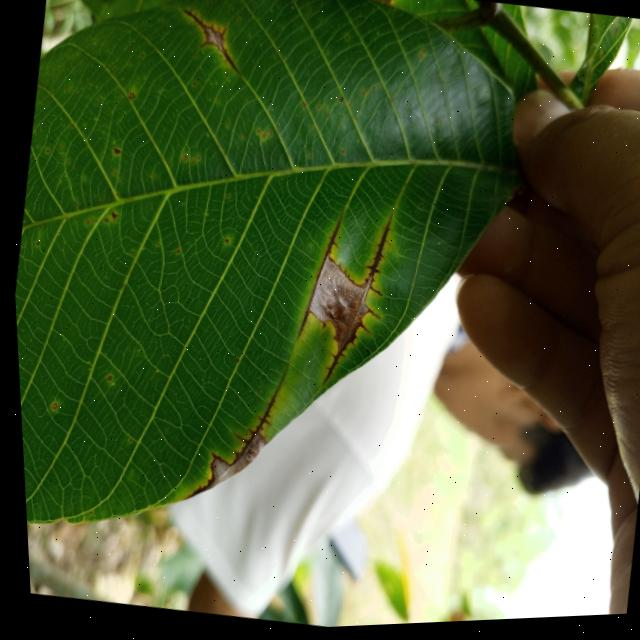Corynespora: (311, 208, 400, 396), (176, 381, 280, 513), (289, 212, 346, 345), (174, 7, 250, 79), (224, 388, 278, 471)
